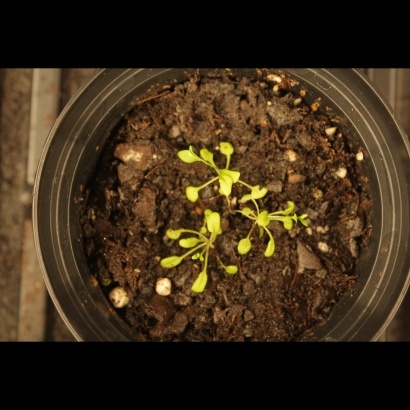leaf: (215, 169, 242, 198), (188, 268, 213, 295), (157, 251, 185, 275), (204, 211, 227, 239), (222, 260, 245, 283), (232, 234, 255, 257), (260, 237, 283, 260), (182, 182, 205, 205), (219, 136, 242, 159), (175, 142, 198, 165), (197, 141, 220, 164), (250, 177, 273, 200), (162, 216, 185, 239), (181, 231, 204, 254), (231, 204, 254, 227), (252, 206, 275, 229), (284, 193, 307, 216), (276, 215, 299, 238), (299, 209, 322, 232)
